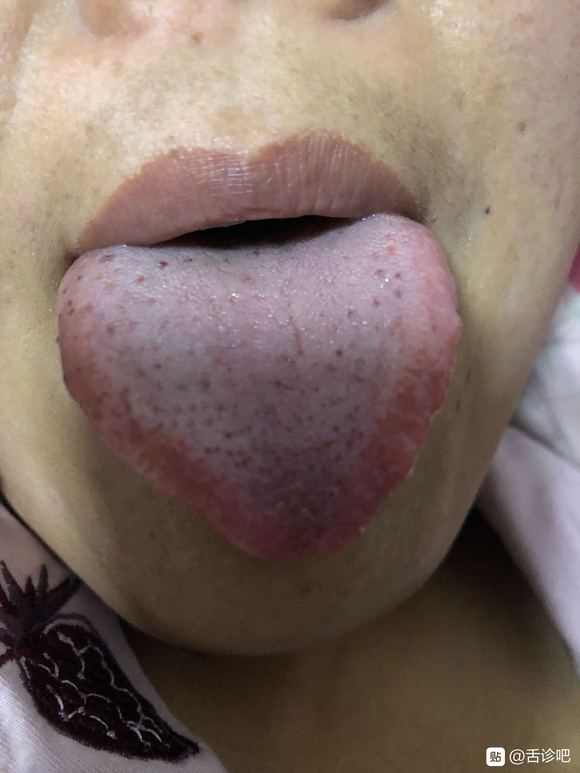baitaishe: (58, 211, 460, 566)
hongdianshe: (154, 255, 170, 270), (333, 345, 346, 361)
